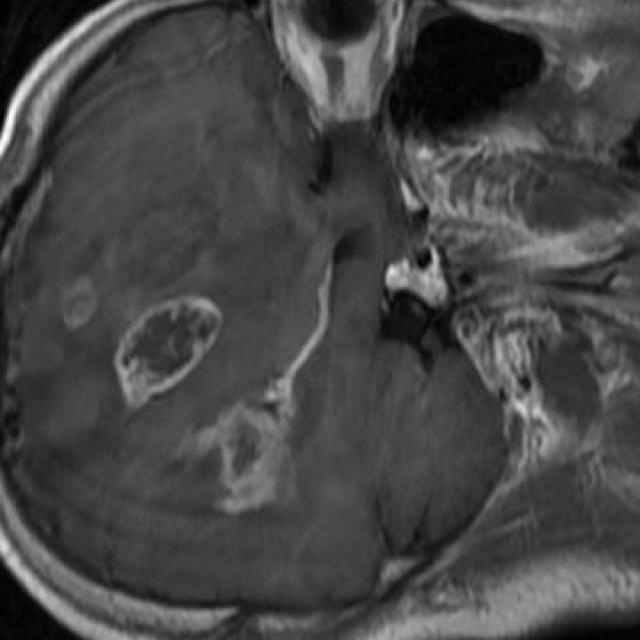glioma: (112, 296, 223, 408)
